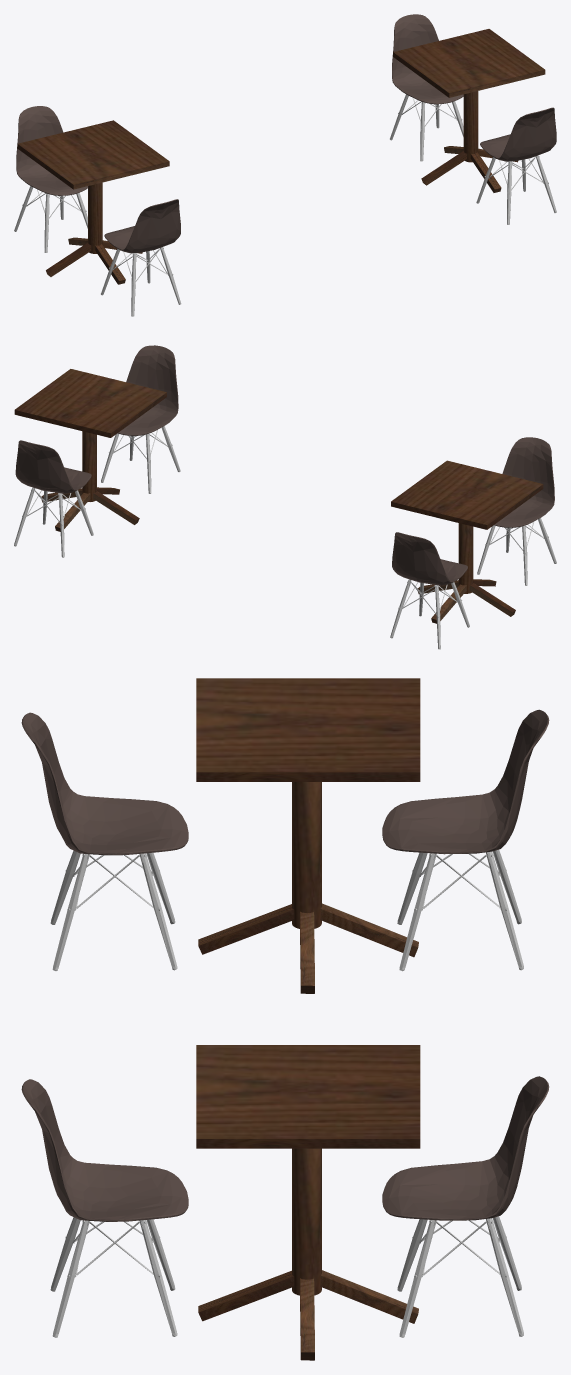
Rendered from mesas_sillas_int.obj.
3 renders of one model, top to bottom at view 1: azimuth 30°, elevation 25°; view 2: azimuth 150°, elevation 25°; view 3: azimuth 270°, elevation 25°, orthographic. The views are drawn at different scales.
Visible parts, largest first — view 1: mesas_sillas_int; view 2: mesas_sillas_int; view 3: mesas_sillas_int.
Part boxes in pixels (x1,y1,x2,y2): mesas_sillas_int: [14, 14, 556, 316]; mesas_sillas_int: [14, 345, 556, 649]; mesas_sillas_int: [21, 678, 549, 1360].
Bounding box in the file's own units: 26.27 × 6.09 × 12.71.
